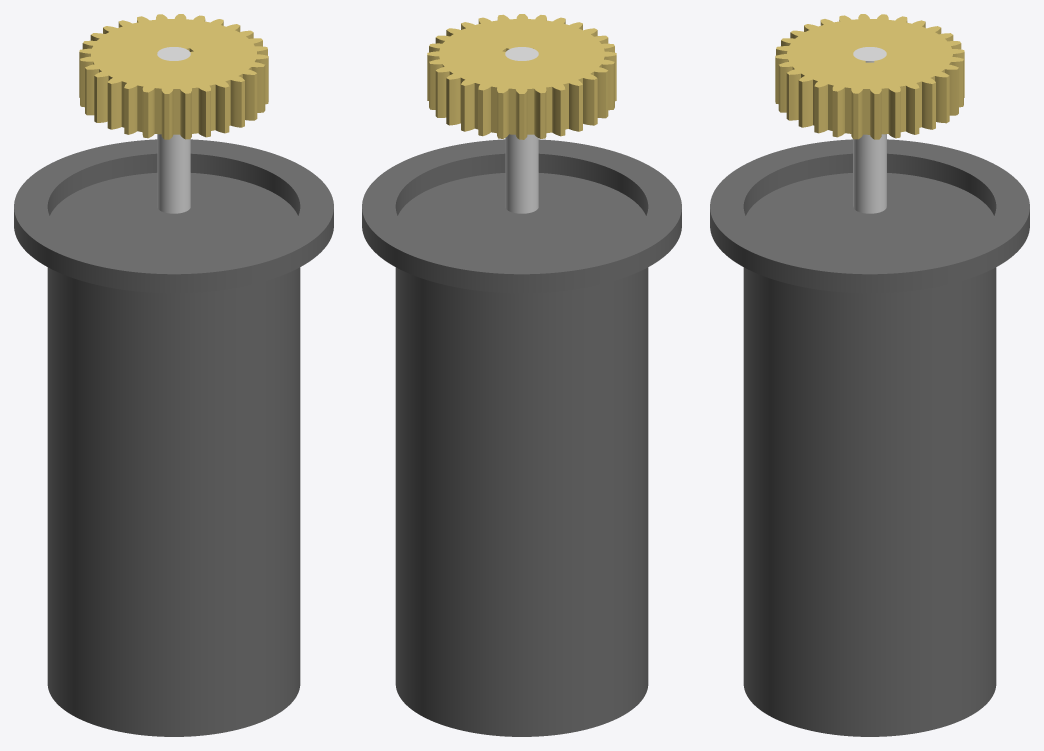
The model's file is a-3d-colored-big-dc-motor-with-a-shaft-and-gear.gltf.
The picture shows the model from 3 angles, left to right: view 1: azimuth 30°, elevation 25°; view 2: azimuth 150°, elevation 25°; view 3: azimuth 270°, elevation 25°; orthographic projection.
Bounding box in the file's own units: 0.076 × 0.165 × 0.076.
